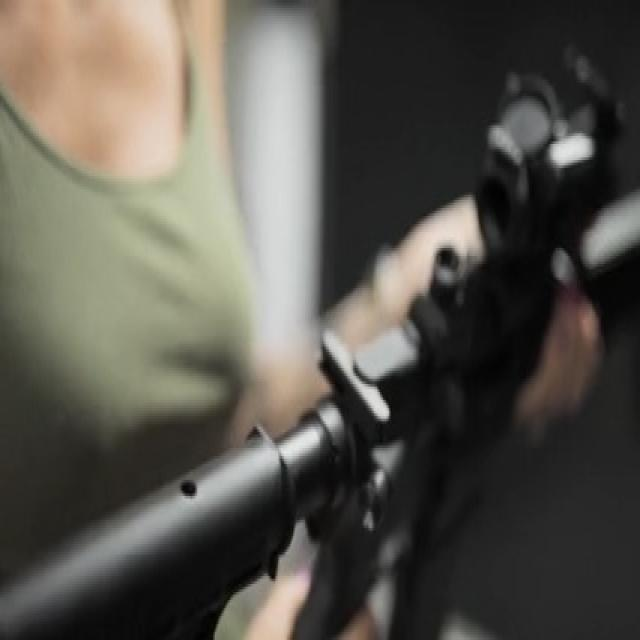Gun_Holder: (209, 0, 640, 640)
